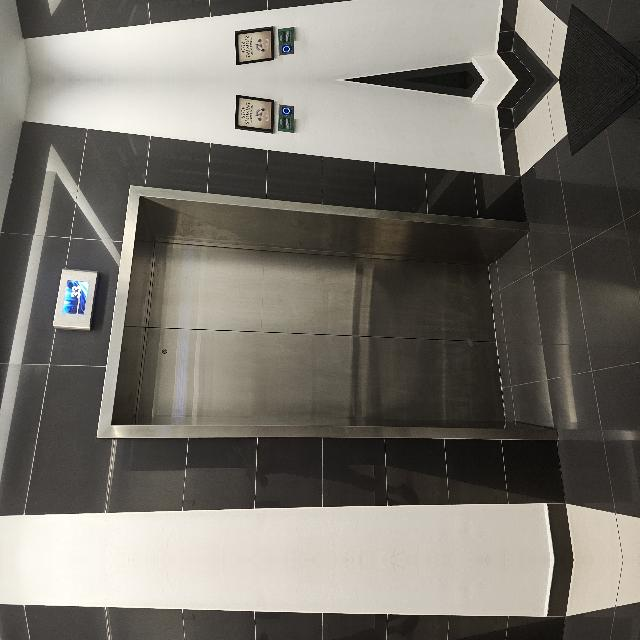door: (120, 175, 376, 620), (119, 499, 376, 640)
